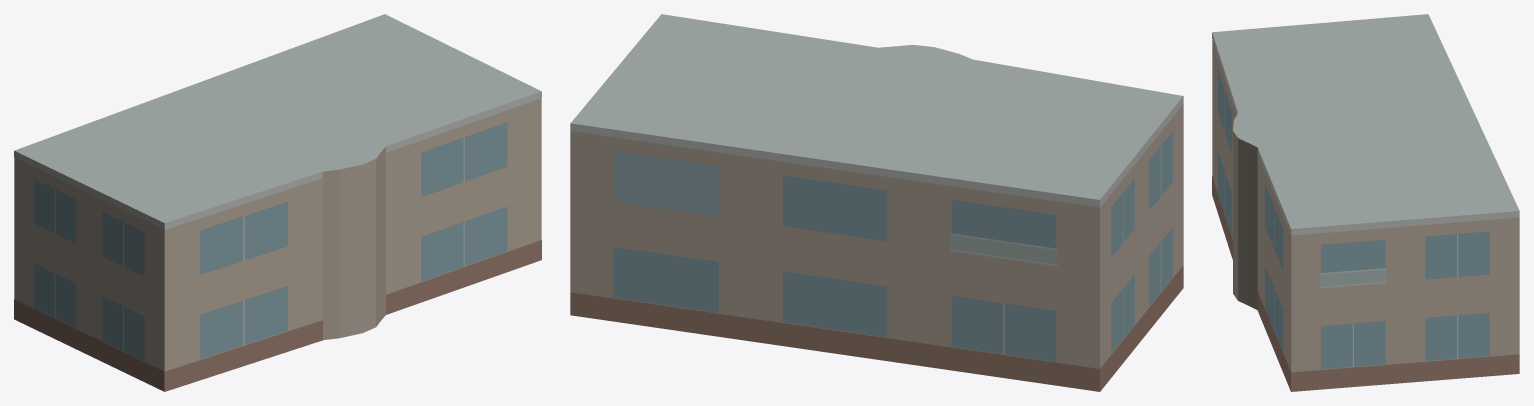
Rendered from survey-upis-32706518.glb.
The picture shows the model from 3 angles, left to right: view 1: azimuth 30°, elevation 25°; view 2: azimuth 150°, elevation 25°; view 3: azimuth 270°, elevation 25°; orthographic projection. The views are drawn at different scales.
Visible parts, largest first — view 1: survey-upis-32706518.tmp; view 2: survey-upis-32706518.tmp; view 3: survey-upis-32706518.tmp.
Part boxes in pixels (x1,y1,x2,y2): survey-upis-32706518.tmp: (14,14,541,391); survey-upis-32706518.tmp: (570,14,1183,391); survey-upis-32706518.tmp: (1212,14,1519,391).
Bounding box in the file's own units: 17.29 × 6.1 × 10.45.
